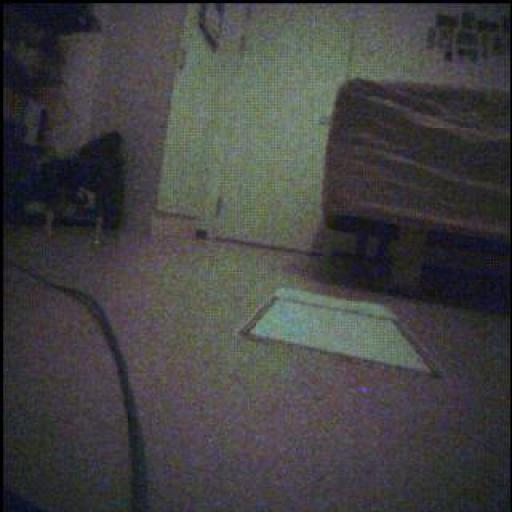pad: (240, 289, 440, 377)
